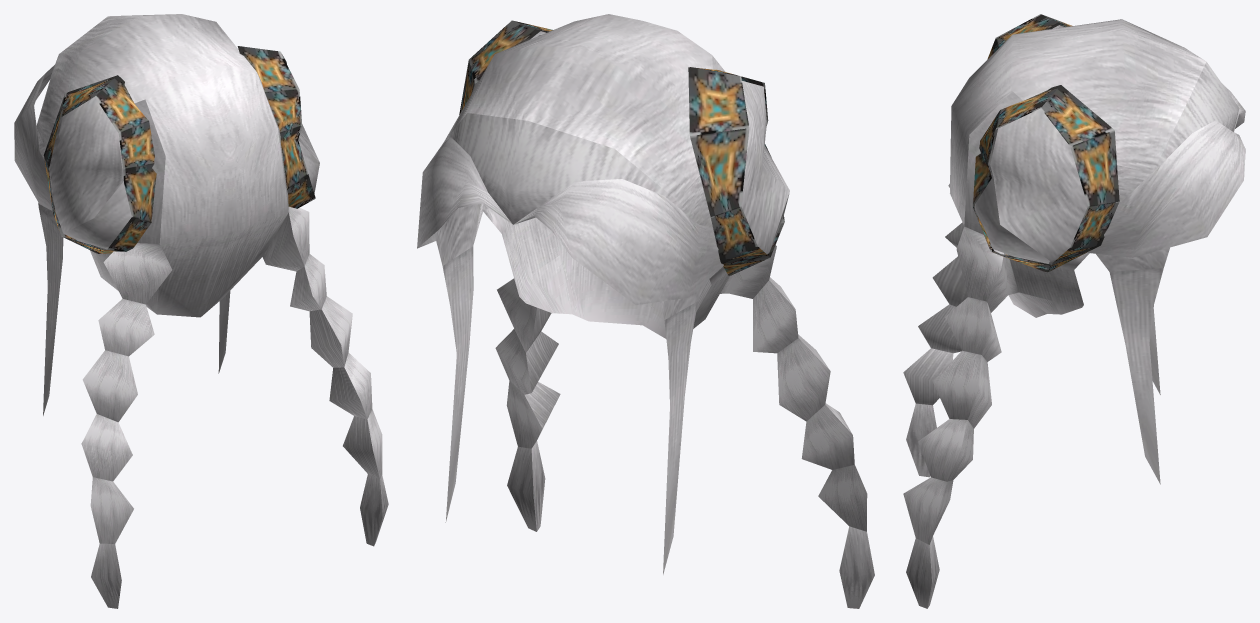
Rendered from Wizard female hair 66.glb.
3 views of the same model, side by side, from view 1: azimuth 30°, elevation 25°; view 2: azimuth 150°, elevation 25°; view 3: azimuth 270°, elevation 25° (orthographic). The views are drawn at different scales.
Parts seen in each view (by area): view 1: 法师女头发66_0, 法师女头发66_2; view 2: 法师女头发66_0, 法师女头发66_2; view 3: 法师女头发66_0, 法师女头发66_2.
Boxes of the visible parts, x1,y1,x2,y2 form: 法师女头发66_0: (14,14,388,608); 法师女头发66_2: (43,46,315,253); 法师女头发66_0: (417,14,874,608); 法师女头发66_2: (459,20,784,275); 法师女头发66_0: (903,19,1245,608); 法师女头发66_2: (973,14,1119,272).
Size of the model in its own units: 0.2247 by 0.3532 by 0.215.
Materials: 2 (2 with a texture image).
